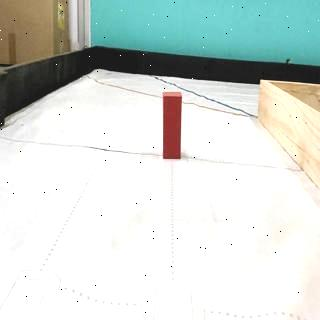redbox: (162, 92, 182, 160)
